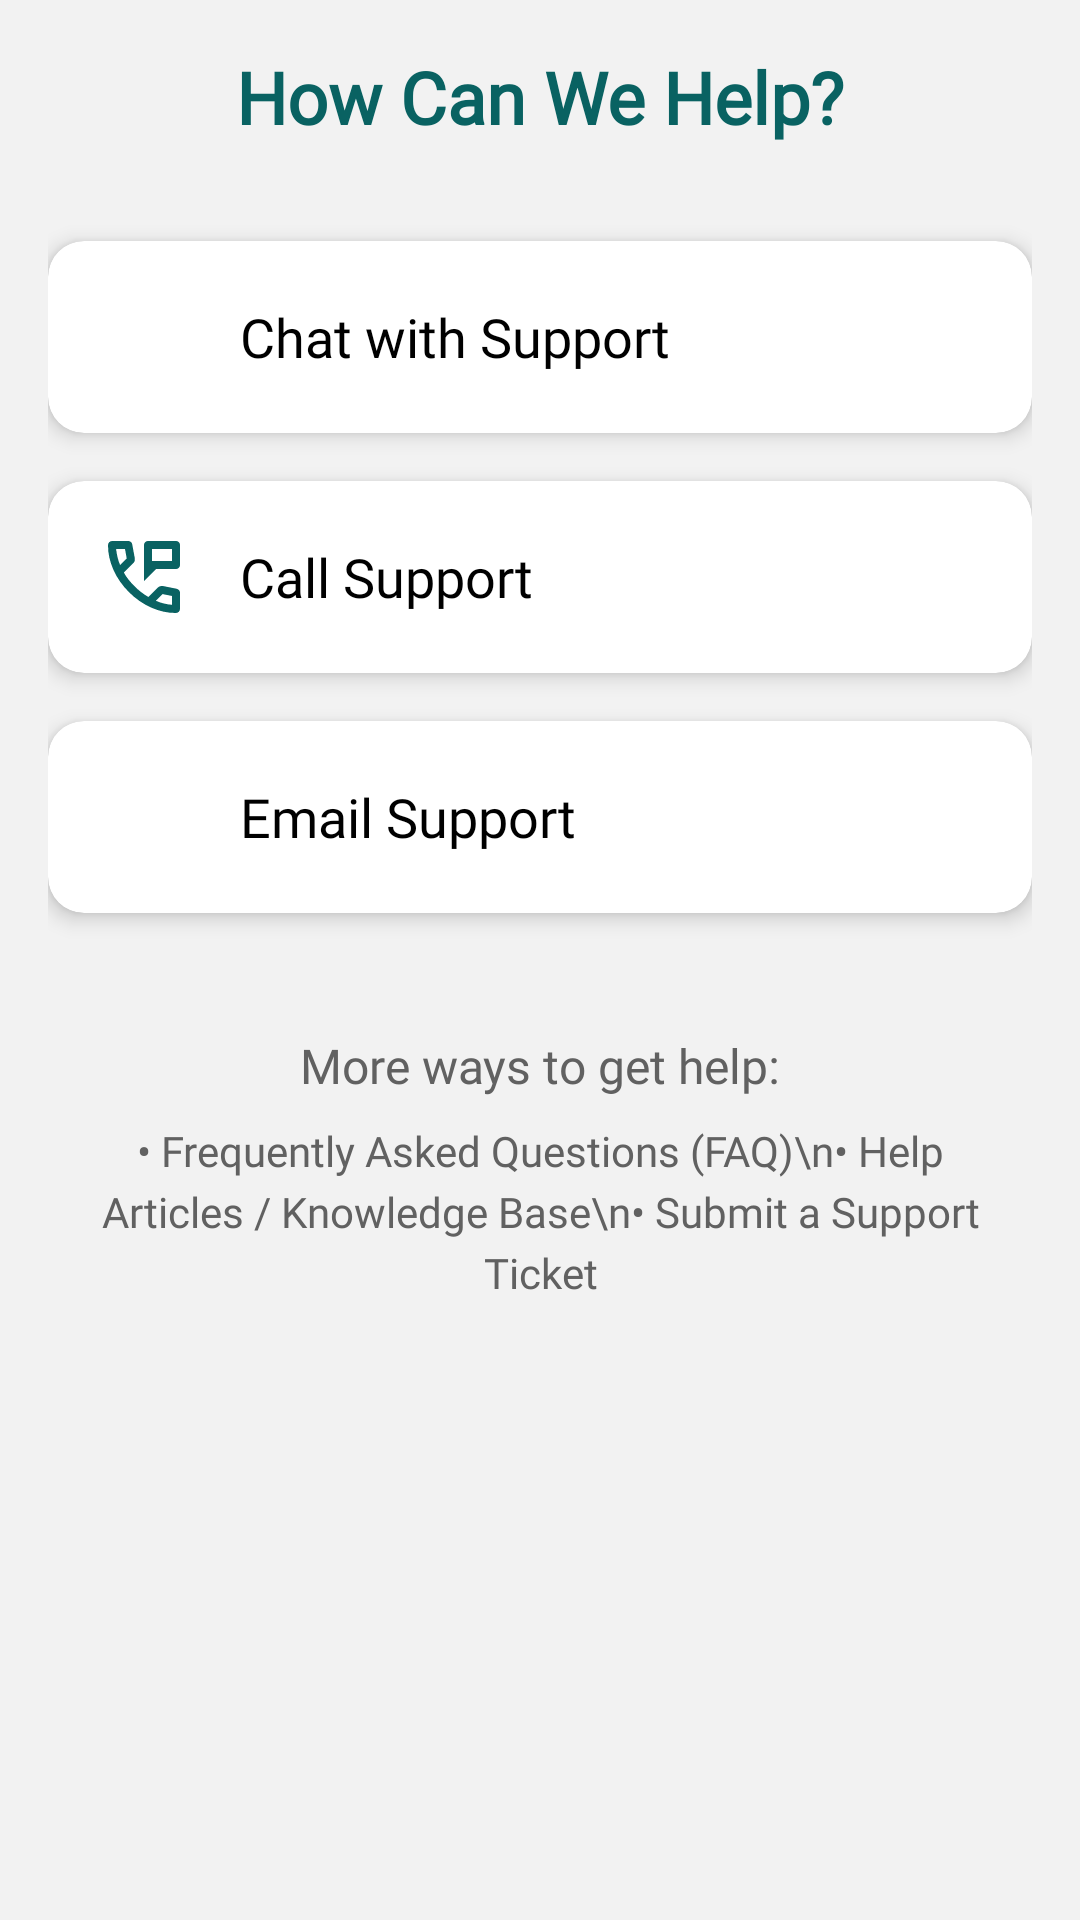

Locate icon controls on the screen. Image size 1080px×1920px, boxes as bbox=(x1, y1, x2, y2).
Phone Icon: bbox=(108, 541, 180, 613)
